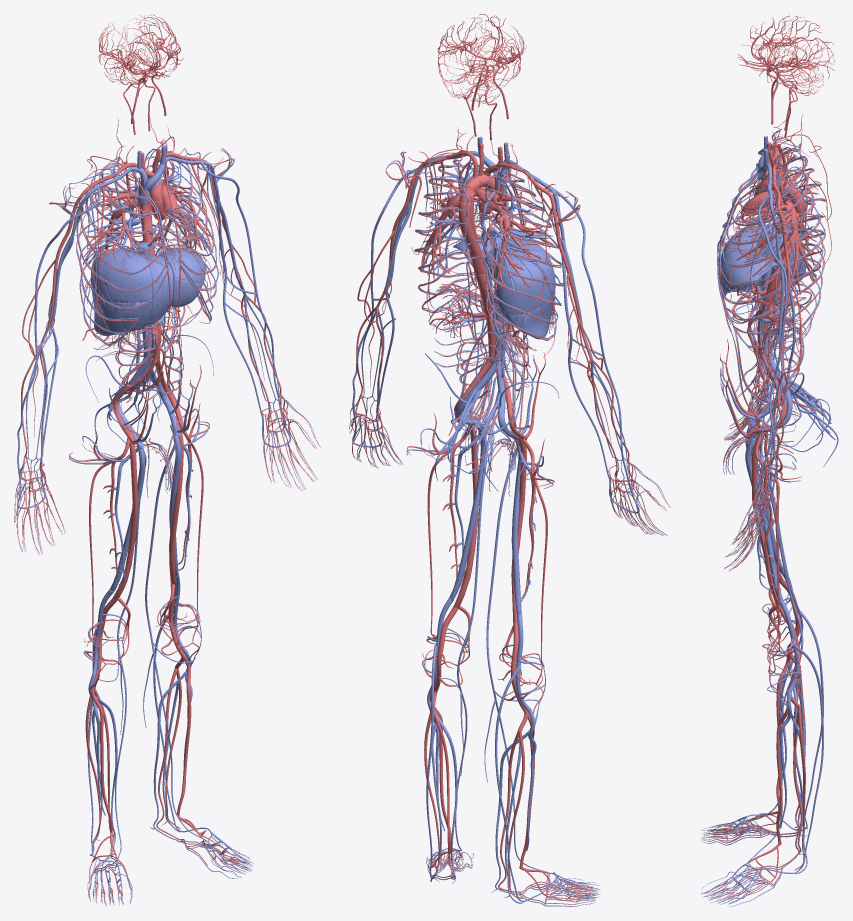
The model's file is cardiovascular.glb.
3 renders of one model, left to right at view 1: azimuth 30°, elevation 25°; view 2: azimuth 150°, elevation 25°; view 3: azimuth 270°, elevation 25°, orthographic. The views are drawn at different scales.
Visible parts, largest first — view 1: bp3d_FJ2824, bp3d_FJ1994, bp3d_FJ1961, bp3d_FJ2820, bp3d_FJ1985, bp3d_FJ2103, bp3d_FJ2143, aorta, bp3d_FJ2145, bp3d_FJ2818, bp3d_FJ2272, bp3d_FJ2074 (+8 smaller); view 2: aorta, bp3d_FJ1994, bp3d_FJ1858, bp3d_FJ1961, bp3d_FJ1985, bp3d_FJ2145, bp3d_FJ1975, bp3d_FJ2103, bp3d_FJ2102, bp3d_FJ2144, bp3d_FJ2409, bp3d_FJ2074 (+8 smaller); view 3: bp3d_FJ1985, bp3d_FJ1975, bp3d_FJ2818, aorta, bp3d_FJ2220, bp3d_FJ2103, bp3d_FJ2102, bp3d_FJ2145, bp3d_FJ2074, bp3d_FJ2121, bp3d_FJ1994, bp3d_FJ2176 (+16 smaller).
Boxes of the visible parts, <box> form: bp3d_FJ2824: <box>100,249,152,302</box>; bp3d_FJ1994: <box>76,157,168,344</box>; bp3d_FJ1961: <box>76,165,165,346</box>; bp3d_FJ2820: <box>145,255,173,324</box>; bp3d_FJ1985: <box>139,148,218,319</box>; bp3d_FJ2103: <box>143,443,205,839</box>; bp3d_FJ2143: <box>113,426,138,600</box>; aorta: <box>140,171,166,363</box>; bp3d_FJ2145: <box>115,449,146,861</box>; bp3d_FJ2818: <box>159,248,205,282</box>; bp3d_FJ2272: <box>17,186,100,479</box>; bp3d_FJ2074: <box>169,416,183,585</box>; aorta: <box>458,173,495,362</box>; bp3d_FJ1994: <box>482,170,563,350</box>; bp3d_FJ1858: <box>497,264,555,314</box>; bp3d_FJ1961: <box>466,188,563,350</box>; bp3d_FJ1985: <box>414,159,500,325</box>; bp3d_FJ2145: <box>484,447,550,873</box>; bp3d_FJ1975: <box>414,179,501,326</box>; bp3d_FJ2103: <box>455,440,487,851</box>; bp3d_FJ2102: <box>449,429,485,601</box>; bp3d_FJ2144: <box>511,441,521,616</box>; bp3d_FJ2409: <box>500,290,555,339</box>; bp3d_FJ2074: <box>454,424,478,608</box>; bp3d_FJ1985: <box>719,166,825,348</box>; bp3d_FJ1975: <box>719,178,825,349</box>; bp3d_FJ2818: <box>720,249,778,289</box>; aorta: <box>754,178,805,358</box>; bp3d_FJ2220: <box>758,195,787,508</box>; bp3d_FJ2103: <box>746,450,803,864</box>; bp3d_FJ2102: <box>745,438,782,600</box>; bp3d_FJ2145: <box>746,426,803,820</box>; bp3d_FJ2074: <box>752,432,780,607</box>; bp3d_FJ2121: <box>783,645,823,873</box>; bp3d_FJ1994: <box>719,147,825,298</box>; bp3d_FJ2176: <box>783,610,823,830</box>.
Bounding box in the file's own units: 0.6489 × 1.71 × 0.2536.
